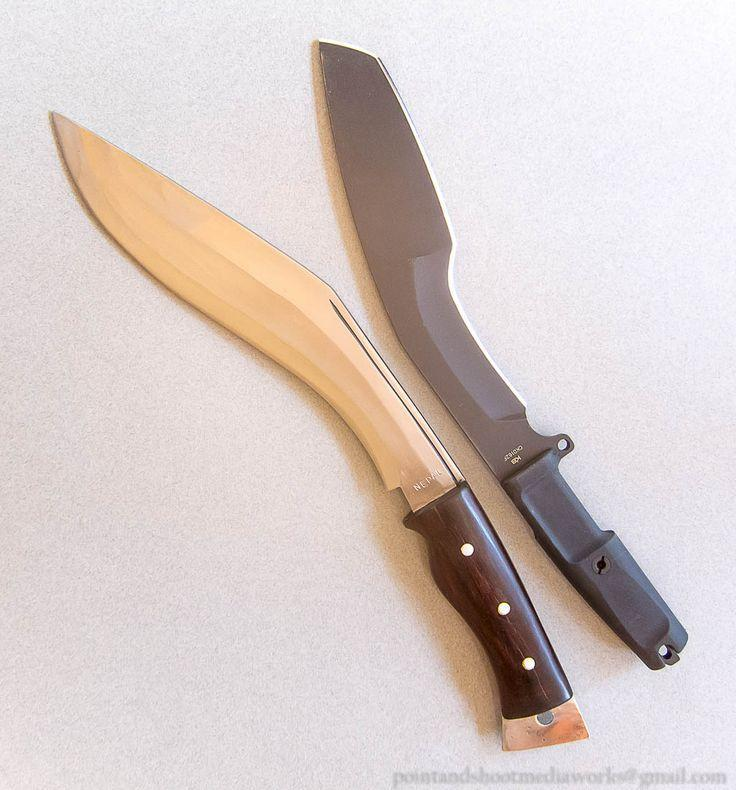facao: (26, 105, 564, 750), (313, 26, 736, 699)
